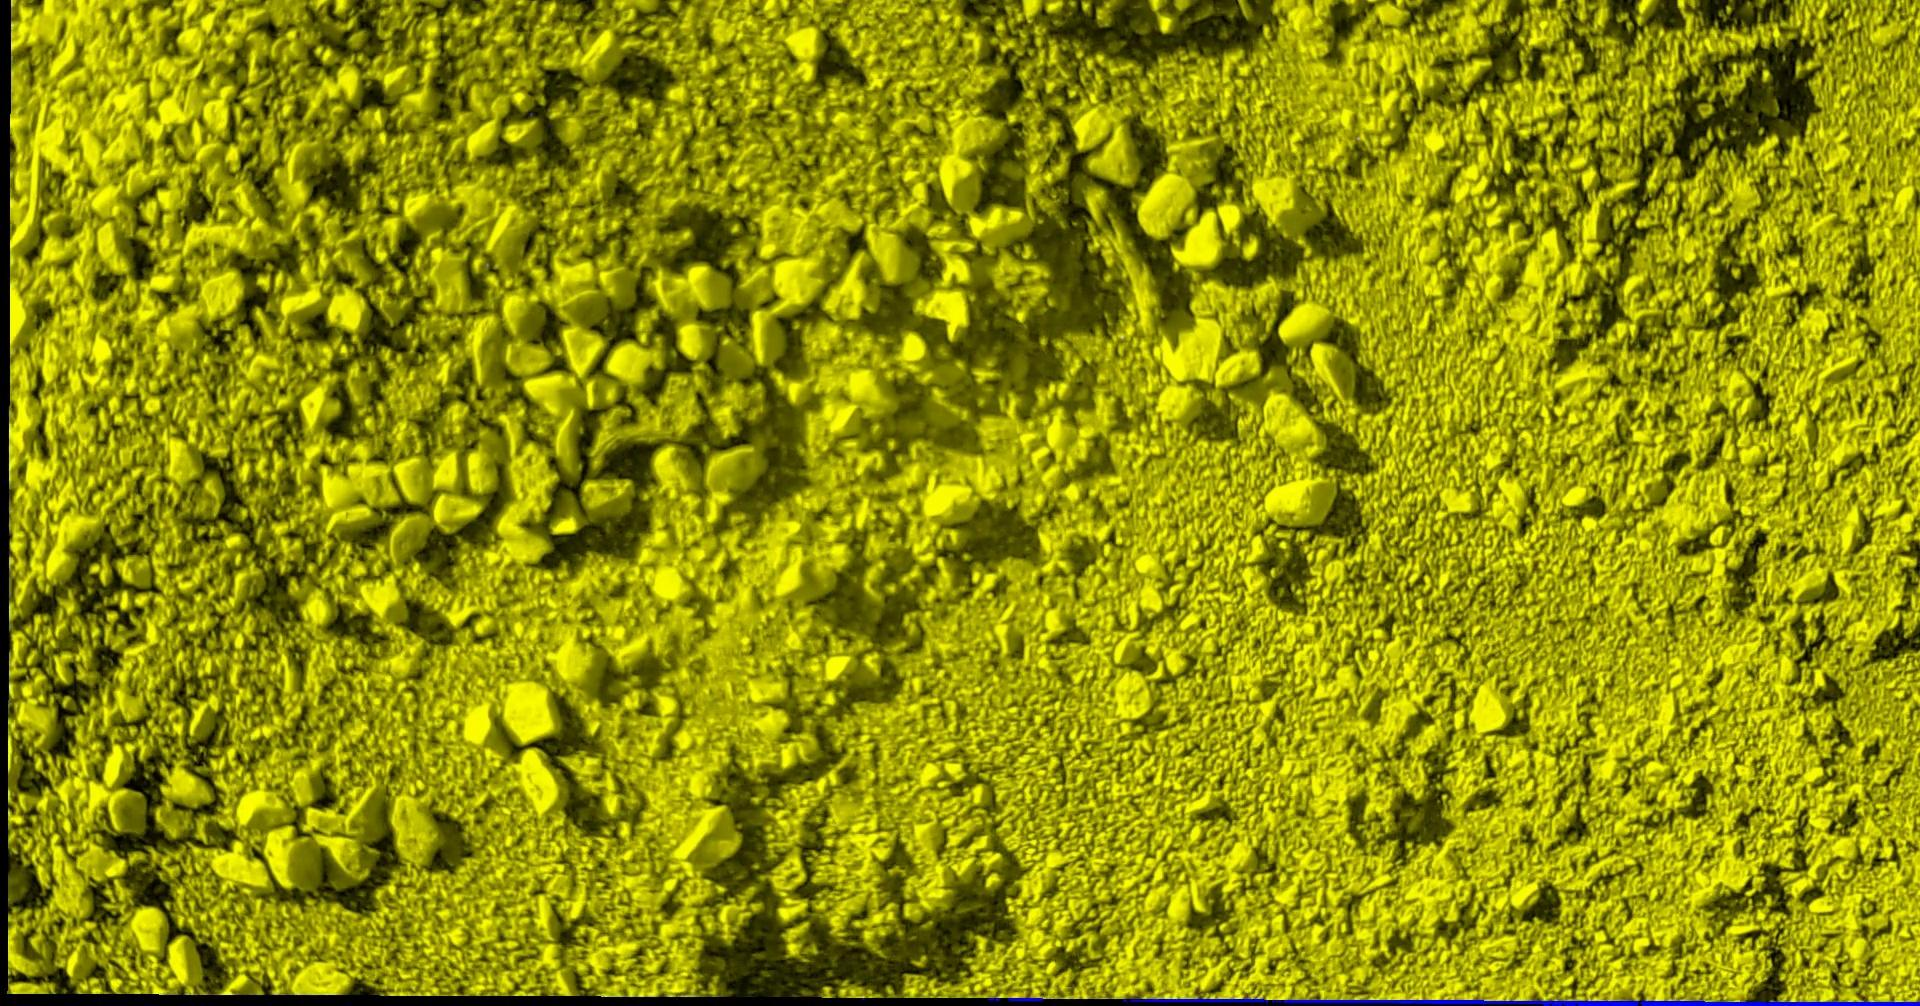ant: (1006, 996, 1043, 1001)
